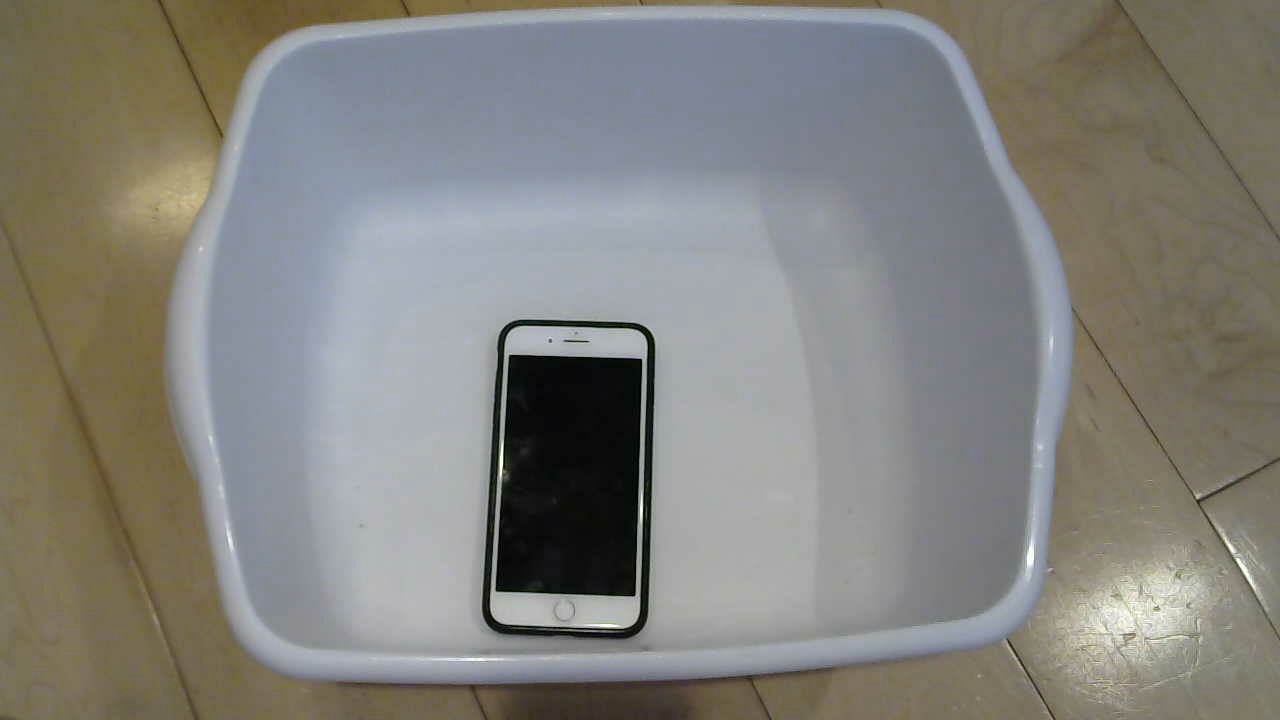phone: (470, 322, 669, 640)
